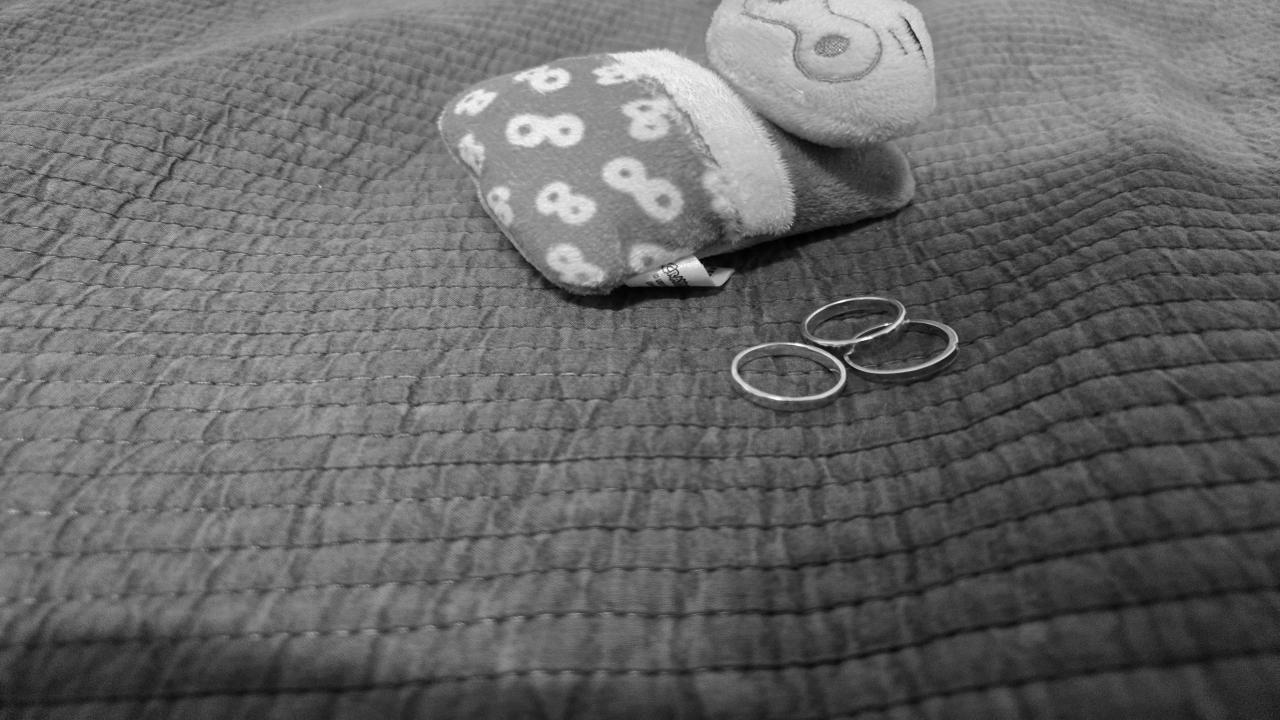ring: (729, 342, 850, 411), (841, 317, 962, 384), (800, 294, 908, 354)
